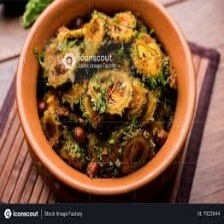sabzi: (30, 6, 182, 179)
